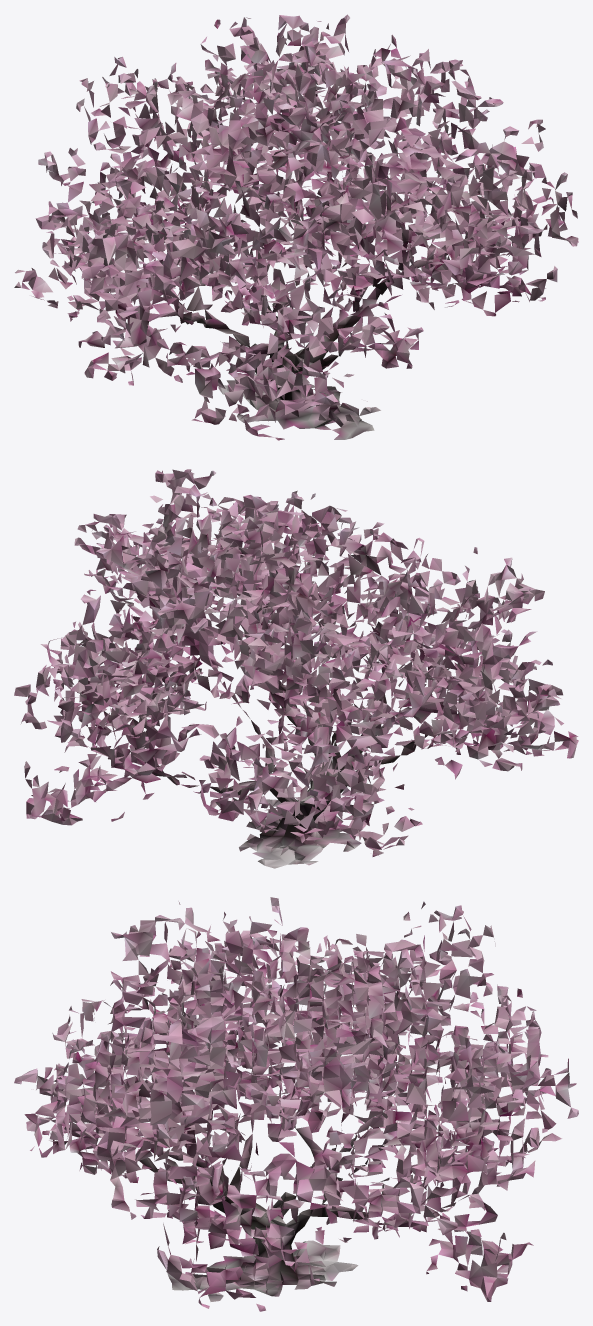
The model's file is cherry-s.glb.
3 views of the same model, one above another, from view 1: azimuth 30°, elevation 25°; view 2: azimuth 150°, elevation 25°; view 3: azimuth 270°, elevation 25° (orthographic). The views are drawn at different scales.
Size of the model in its own units: 1.87 by 1.29 by 1.82.
